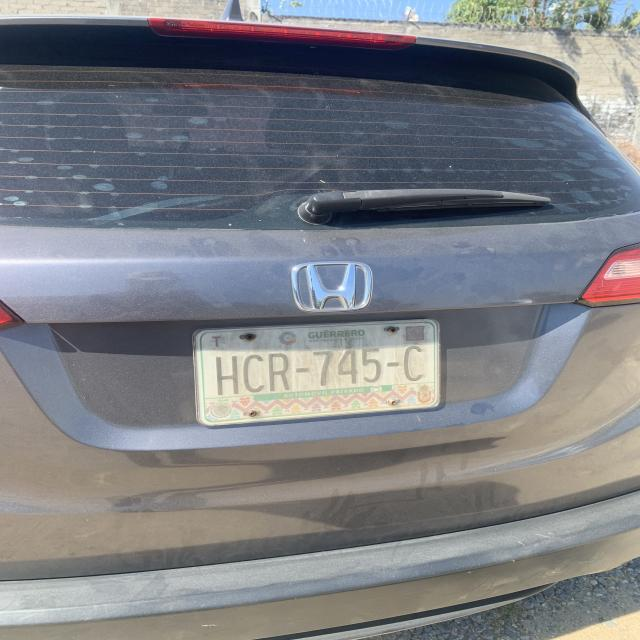placa: (200, 342, 437, 397)
